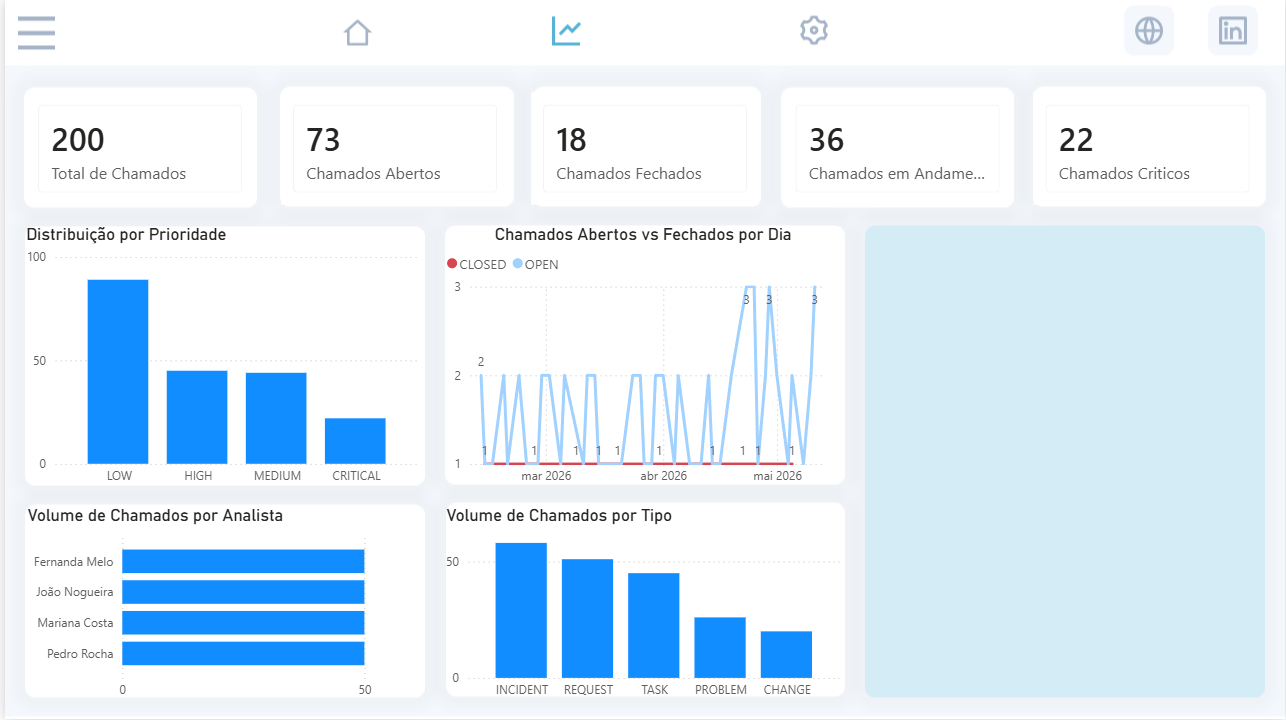

Layout of this report page (visuals, bound fields, positions):
{"tool":"powerbi","page":{"name":"indicadores de chamados","canvas":[1280,720],"ordinal":0},"visuals":[{"type":"lineChart","title":"Chamados Abertos vs Fechados por Dia","fields":{"Category":["itsm chamado.dt_criacao"],"Y":["Count(itsm chamado.id_chamado)"],"Series":["itsm chamado.ds_status_chamado"]},"box":[436.2,225,403.8,270],"z":0},{"type":"cardVisual","fields":{"Data":["CountNonNull(itsm chamado.id_chamado)"]},"box":[16.2,88.8,238.8,122.5],"z":1000},{"type":"cardVisual","fields":{"Data":["CountNonNull(itsm chamado.id_chamado)"]},"box":[521.2,88.8,238.8,122.5],"z":2000},{"type":"cardVisual","fields":{"Data":["CountNonNull(itsm chamado.id_chamado)"]},"box":[271.2,88.8,238.8,122.5],"z":3000},{"type":"cardVisual","fields":{"Data":["CountNonNull(itsm chamado.id_chamado)"]},"box":[773.8,88.8,238.8,122.5],"z":4000},{"type":"cardVisual","fields":{"Data":["CountNonNull(itsm chamado.id_chamado)"]},"box":[1023.8,88.8,238.8,122.5],"z":5000},{"type":"clusteredBarChart","title":"Volume de Chamados por Analista","fields":{"Y":["CountNonNull(itsm chamado.id_chamado)"],"Category":["itsm analista.nm_analista"]},"box":[17.5,506.2,402.5,202.5],"z":6000},{"type":"clusteredColumnChart","title":"Distribuição por Prioridade","fields":{"Category":["itsm chamado.ds_prioridade"],"Y":["CountNonNull(itsm chamado.id_chamado)"]},"box":[16.2,225,403.8,270],"z":7000},{"type":"clusteredColumnChart","title":"Volume de Chamados por Tipo","fields":{"Category":["itsm chamado.ds_tipo_chamado"],"Y":["CountNonNull(itsm chamado.id_categoria)"]},"box":[435.7,505.7,404.3,202.9],"z":8000}]}

Visuals, with their boxes on the page's 1280x720 design canvas (x1, y1, x2, y2). These are canvas units, not pixel positions in the 1286x720 screenshot, which may show the page scaled, cropped or inside an application window:
"Chamados Abertos vs Fechados por Dia" lineChart: region(436, 225, 840, 495)
cardVisual - CountNonNull(itsm chamado.id_chamado): region(16, 89, 255, 211)
cardVisual - CountNonNull(itsm chamado.id_chamado): region(521, 89, 760, 211)
cardVisual - CountNonNull(itsm chamado.id_chamado): region(271, 89, 510, 211)
cardVisual - CountNonNull(itsm chamado.id_chamado): region(774, 89, 1013, 211)
cardVisual - CountNonNull(itsm chamado.id_chamado): region(1024, 89, 1263, 211)
"Volume de Chamados por Analista" clusteredBarChart: region(18, 506, 420, 709)
"Distribuição por Prioridade" clusteredColumnChart: region(16, 225, 420, 495)
"Volume de Chamados por Tipo" clusteredColumnChart: region(436, 506, 840, 709)
